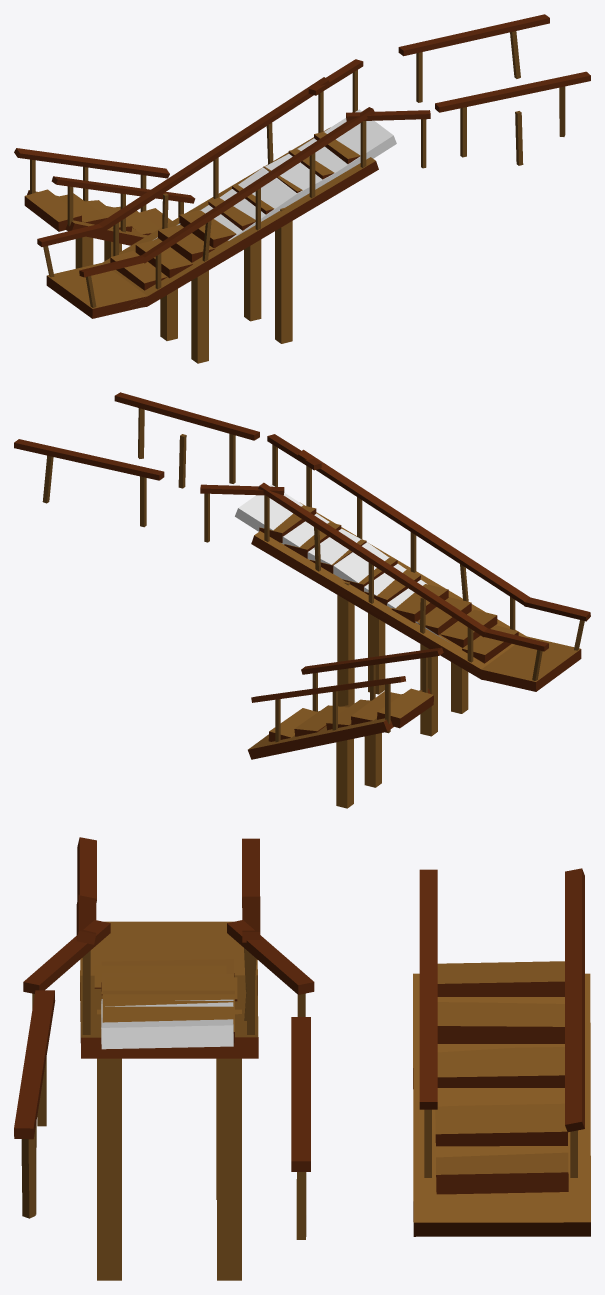
The model's file is Stairs.fbx.
The picture shows the model from 3 angles, top to bottom: view 1: azimuth 30°, elevation 25°; view 2: azimuth 150°, elevation 25°; view 3: azimuth 270°, elevation 25°; orthographic projection. The views are drawn at different scales.
Parts seen in each view (by area): view 1: Cube.020, Cube.010, Cube.008, Cube.018, Cube.023, Cube.022, Cube.013, Cube.009, Cube.036, Cube, Cube.005, Cube.003 (+3 smaller); view 2: Cube.020, Cube.010, Cube.008, Cube.018, Cube.009, Cube.022, Cube.013, Cube.023, Cube.036, Cube.024, Cube.029, Cube (+3 smaller); view 3: Cube.009, Cube.024, Cube.023, Cube.036, Cube.010, Cube.020, Cube.013, Cube.008, Cube.018, Cube.005, Cube.003, Cube.022 (+3 smaller).
Boxes of the visible parts, bbox=[...] form: Cube.020: bbox=[37, 59, 430, 277]; Cube.010: bbox=[110, 131, 360, 290]; Cube.008: bbox=[102, 127, 378, 308]; Cube.018: bbox=[153, 109, 396, 240]; Cube.023: bbox=[244, 208, 292, 343]; Cube.022: bbox=[43, 70, 426, 307]; Cube.013: bbox=[46, 263, 147, 318]; Cube.009: bbox=[24, 189, 171, 235]; Cube.036: bbox=[14, 148, 195, 203]; Cube: bbox=[160, 270, 208, 363]; Cube.005: bbox=[435, 71, 590, 112]; Cube.003: bbox=[398, 14, 549, 56]; Cube.020: bbox=[200, 434, 590, 651]; Cube.010: bbox=[259, 505, 518, 663]; Cube.008: bbox=[251, 502, 526, 682]; Cube.018: bbox=[235, 484, 449, 642]; Cube.009: bbox=[268, 688, 433, 741]; Cube.022: bbox=[204, 444, 584, 680]; Cube.013: bbox=[481, 636, 581, 691]; Cube.023: bbox=[337, 581, 385, 706]; Cube.036: bbox=[251, 647, 443, 702]; Cube.024: bbox=[248, 688, 430, 759]; Cube.029: bbox=[336, 733, 381, 808]; Cube: bbox=[420, 644, 468, 736]; Cube.009: bbox=[435, 961, 568, 1194]; Cube.024: bbox=[413, 973, 590, 1236]; Cube.023: bbox=[97, 1009, 241, 1280]; Cube.036: bbox=[419, 868, 584, 1132]; Cube.010: bbox=[94, 959, 237, 1043]; Cube.020: bbox=[23, 837, 314, 994]; Cube.013: bbox=[80, 921, 257, 982]; Cube.008: bbox=[80, 970, 258, 1058]; Cube.018: bbox=[101, 999, 233, 1049]; Cube.005: bbox=[14, 990, 55, 1139]; Cube.003: bbox=[291, 1017, 310, 1171]; Cube.022: bbox=[32, 948, 305, 1034].
Bounding box in the file's own units: 4271 × 1781 × 2111.
